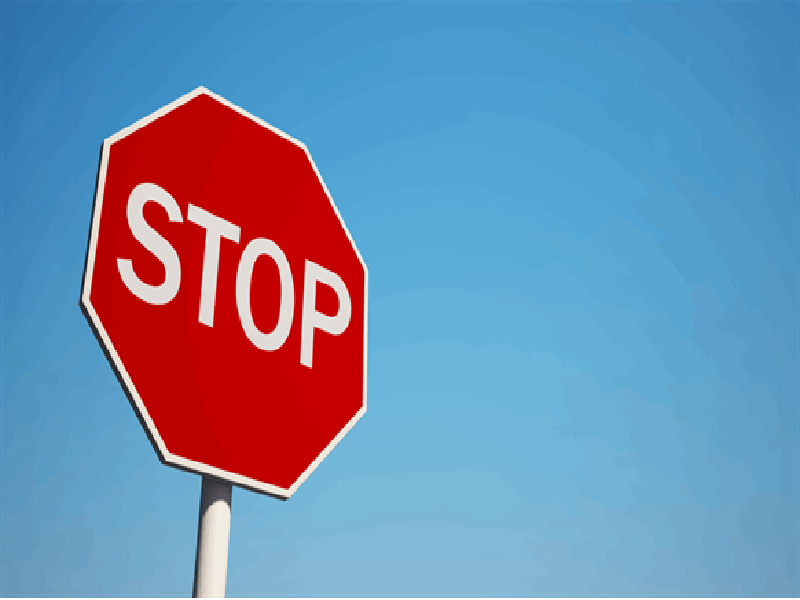stop: (73, 79, 372, 508)
